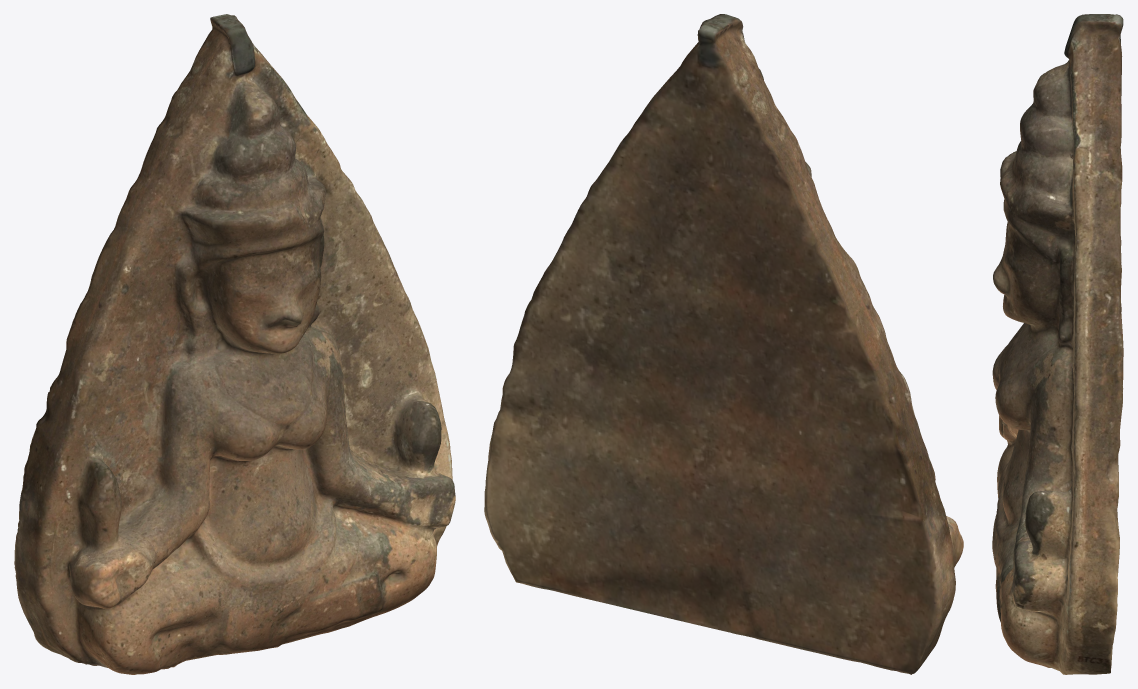
File: 32_laskmi_final.glb
3 views of the same model, side by side, from view 1: azimuth 30°, elevation 25°; view 2: azimuth 150°, elevation 25°; view 3: azimuth 270°, elevation 25° (orthographic). The views are drawn at different scales.
Size of the model in its own units: 0.3925 by 0.5221 by 0.1068.
1 material, 1 textured.
